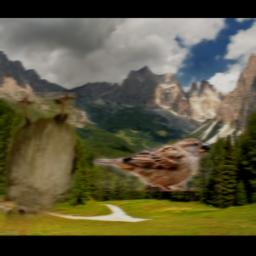Sparrow: (0, 93, 76, 228), (93, 137, 210, 191)
